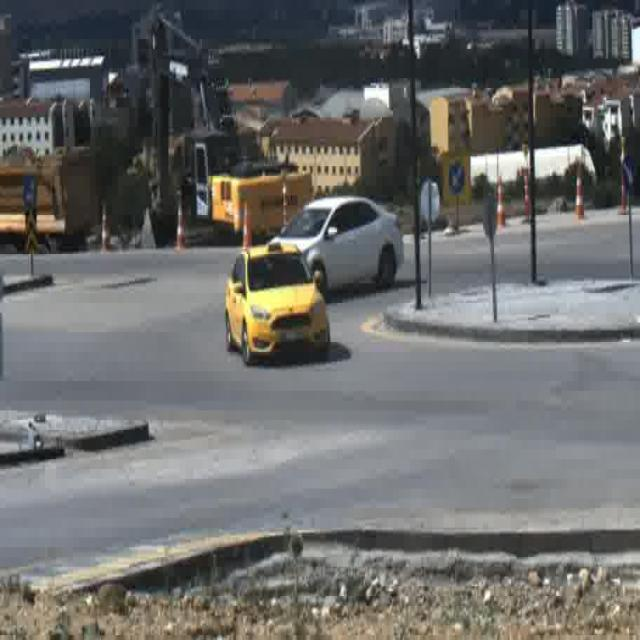Car: (266, 198, 402, 294), (225, 245, 328, 362)
